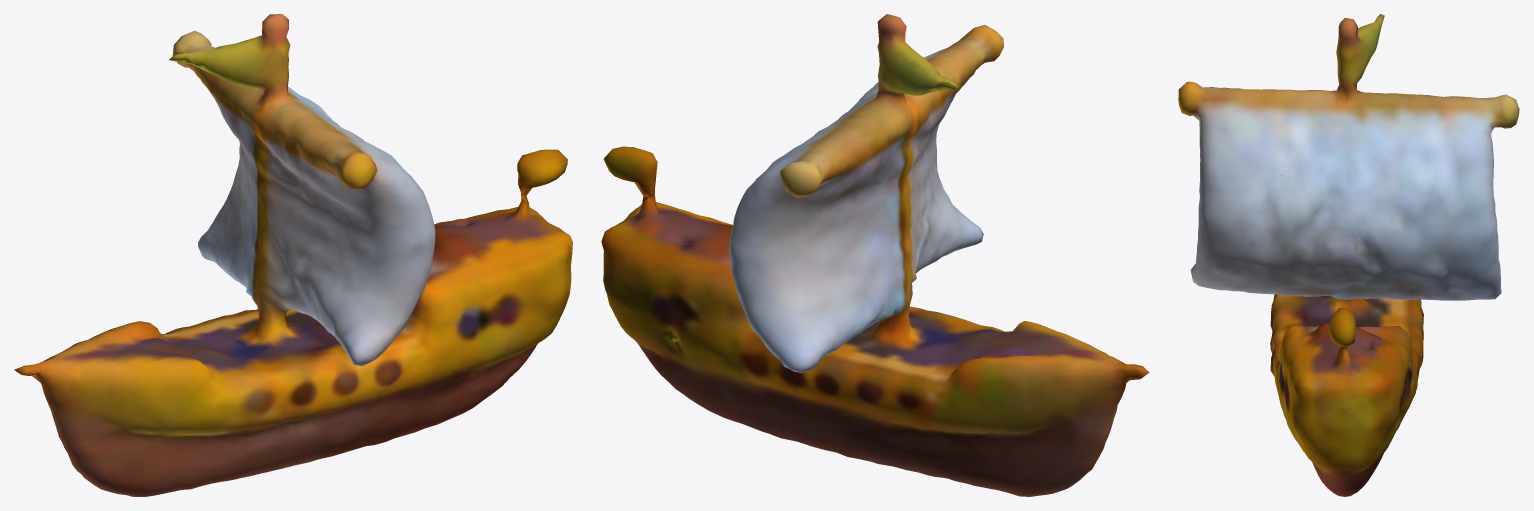
Rendered from ship2.glb.
3 renders of one model, left to right at view 1: azimuth 30°, elevation 25°; view 2: azimuth 150°, elevation 25°; view 3: azimuth 270°, elevation 25°, orthographic. The views are drawn at different scales.
Parts seen in each view (by area): view 1: Mesh1; view 2: Mesh1; view 3: Mesh1.
Boxes of the visible parts, left/top/right/bottom form: Mesh1: left=14, top=14, right=572, bottom=496; Mesh1: left=601, top=14, right=1149, bottom=496; Mesh1: left=1178, top=14, right=1519, bottom=496.
Bounding box in the file's own units: 1.63 × 1.27 × 0.9747.
Materials: 1 (1 with a texture image).
